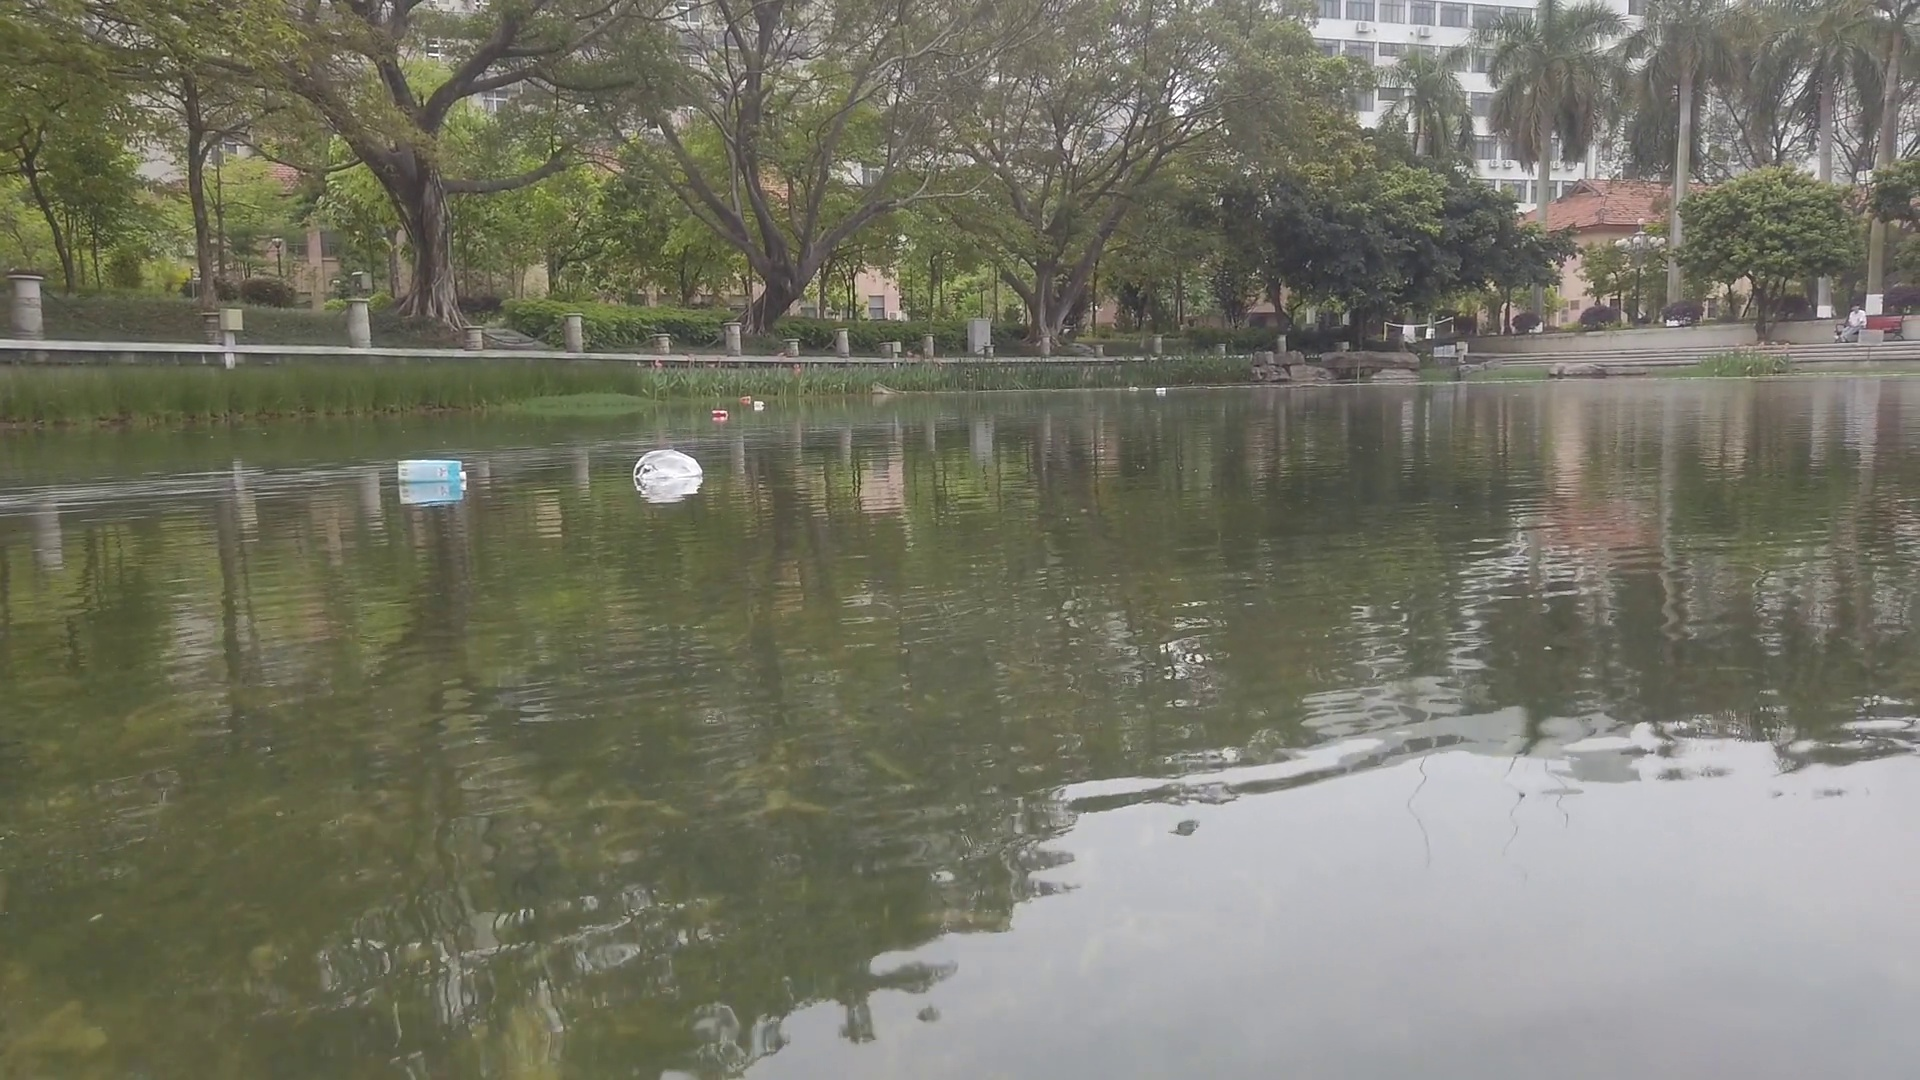bottle: (712, 409, 729, 418), (741, 396, 752, 404), (1156, 386, 1166, 393), (1129, 386, 1139, 392), (756, 402, 764, 406)
carton: (398, 458, 468, 483)
plastic: (634, 448, 705, 479)
